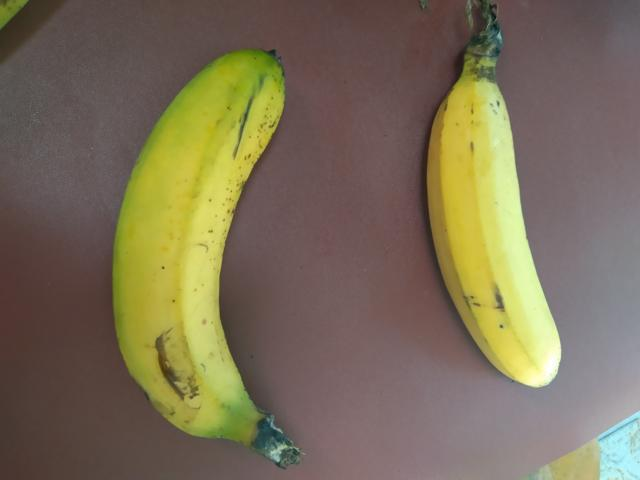freshripe: (388, 24, 573, 395)
ripe: (95, 43, 330, 430)
